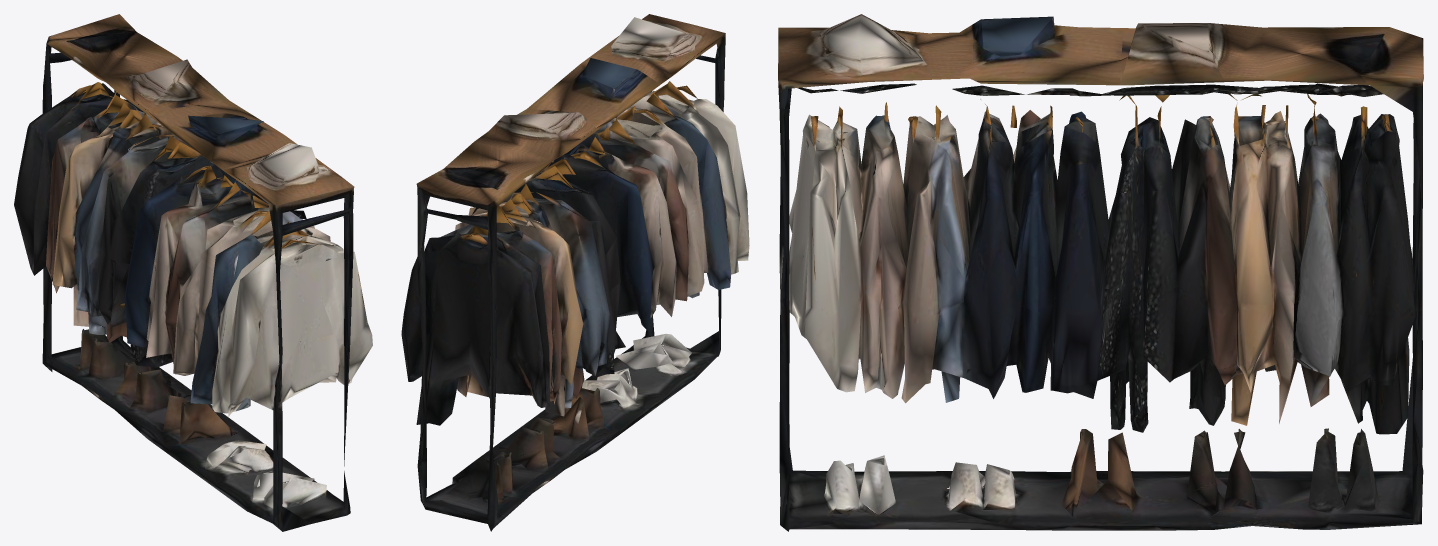
The model's file is clothrail_lod1.glb.
3 renders of one model, left to right at view 1: azimuth 30°, elevation 25°; view 2: azimuth 150°, elevation 25°; view 3: azimuth 270°, elevation 25°, orthographic. The views are drawn at different scales.
Parts seen in each view (by area): view 1: tripo_node_c77b2e2e-3d52-4b21-924a-4841dd4a9c13; view 2: tripo_node_c77b2e2e-3d52-4b21-924a-4841dd4a9c13; view 3: tripo_node_c77b2e2e-3d52-4b21-924a-4841dd4a9c13.
Boxes of the visible parts, x1,y1,x2,y2 form: tripo_node_c77b2e2e-3d52-4b21-924a-4841dd4a9c13: [14, 14, 372, 531]; tripo_node_c77b2e2e-3d52-4b21-924a-4841dd4a9c13: [401, 14, 749, 531]; tripo_node_c77b2e2e-3d52-4b21-924a-4841dd4a9c13: [778, 14, 1423, 531].
Size of the model in its own units: 0.7918 by 1.75 by 2.08.
Materials: 1 (1 with a texture image).
